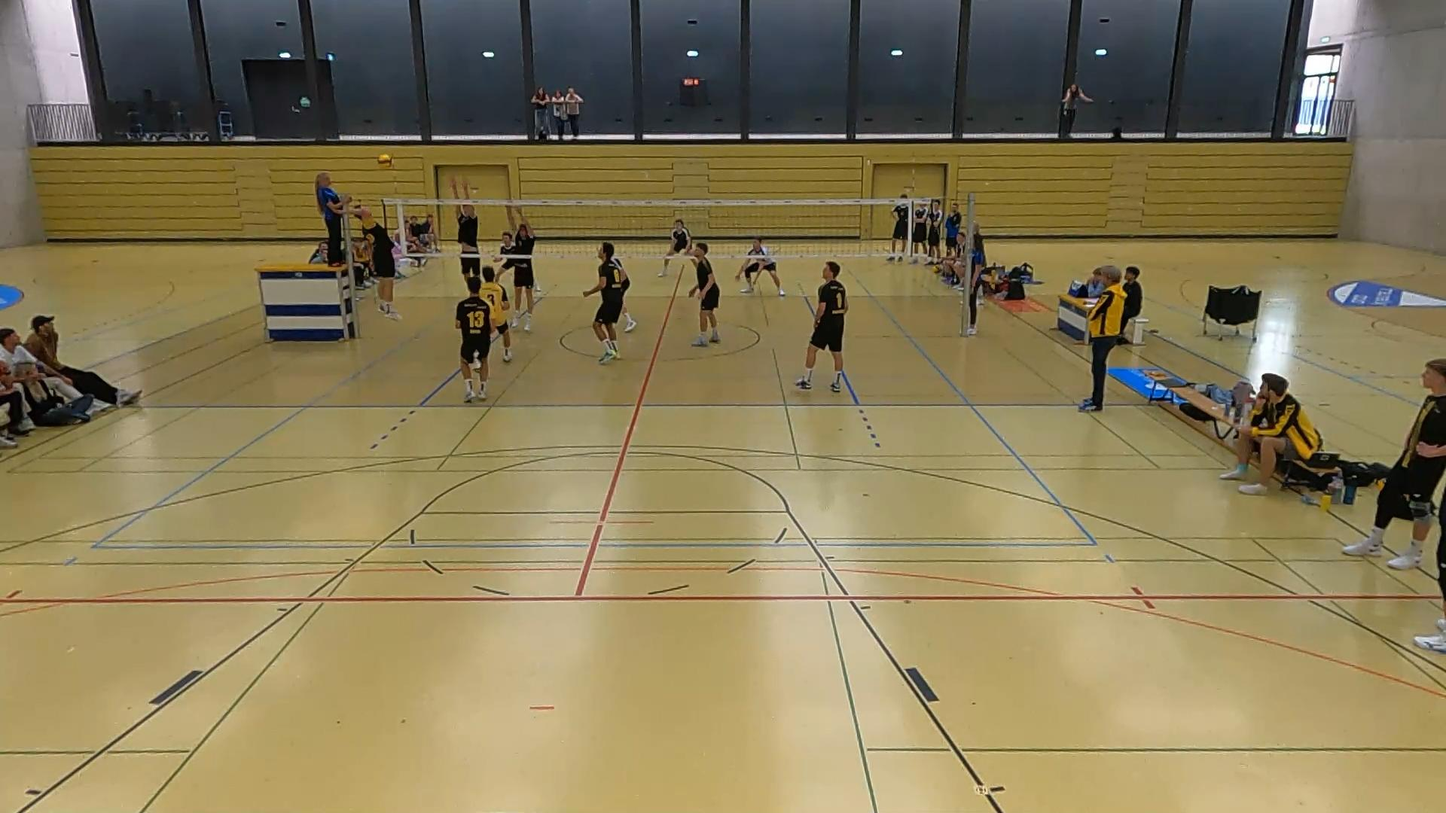Attack: (320, 202, 412, 326)
Block: (498, 194, 538, 337), (446, 173, 487, 302)
Player: (795, 260, 847, 392), (583, 242, 626, 363), (456, 276, 493, 402), (689, 242, 720, 346), (479, 266, 511, 362), (735, 237, 785, 297), (658, 218, 692, 276), (621, 269, 636, 332)
ball: (377, 151, 394, 173)
